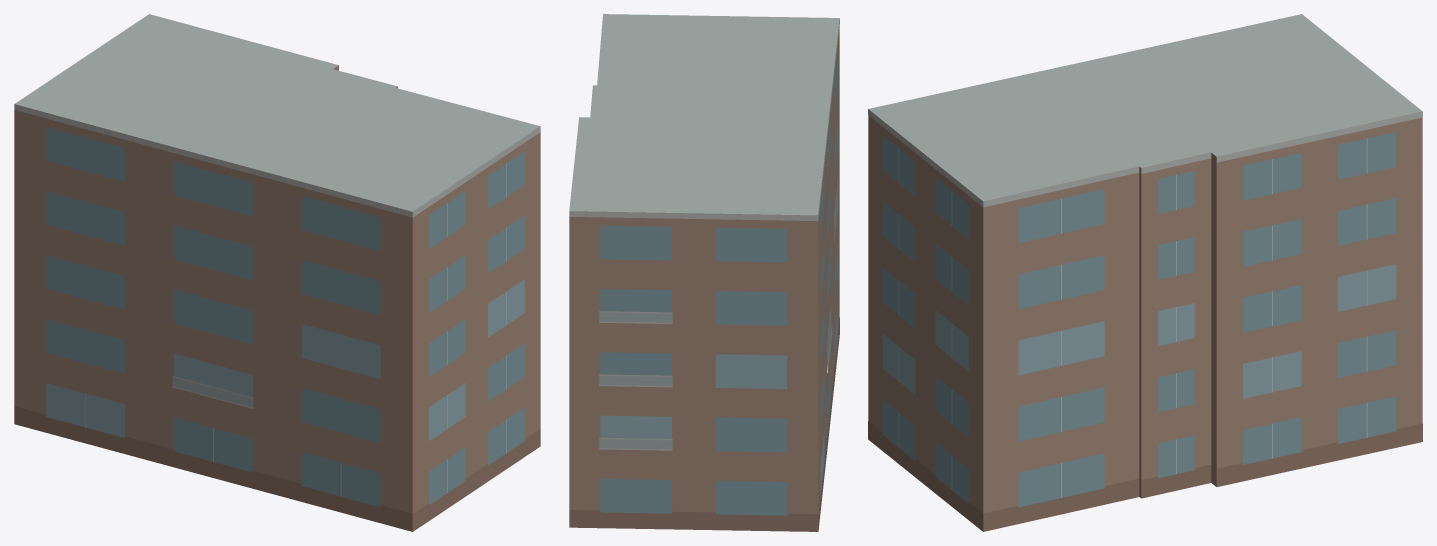
Rendered from survey-upis-33032662.glb.
3 views of the same model, side by side, from view 1: azimuth 30°, elevation 25°; view 2: azimuth 150°, elevation 25°; view 3: azimuth 270°, elevation 25° (orthographic). The views are drawn at different scales.
Parts seen in each view (by area): view 1: survey-upis-33032662.tmp; view 2: survey-upis-33032662.tmp; view 3: survey-upis-33032662.tmp.
Boxes of the visible parts, bbox=[...] form: survey-upis-33032662.tmp: bbox=[14, 14, 540, 531]; survey-upis-33032662.tmp: bbox=[569, 14, 839, 531]; survey-upis-33032662.tmp: bbox=[868, 14, 1422, 531].
Bounding box in the file's own units: 16.43 × 13.5 × 20.54.
